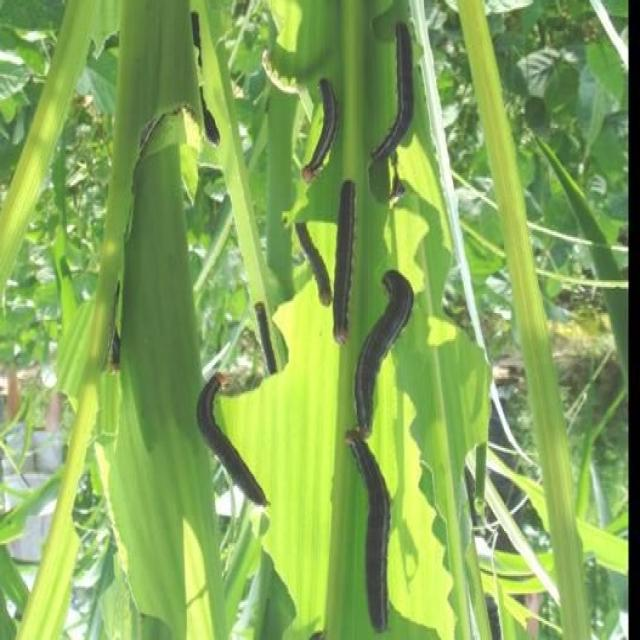army worm: (339, 427, 395, 634), (196, 366, 272, 515), (372, 268, 415, 441), (376, 19, 420, 178), (326, 171, 356, 344), (300, 80, 341, 182)
